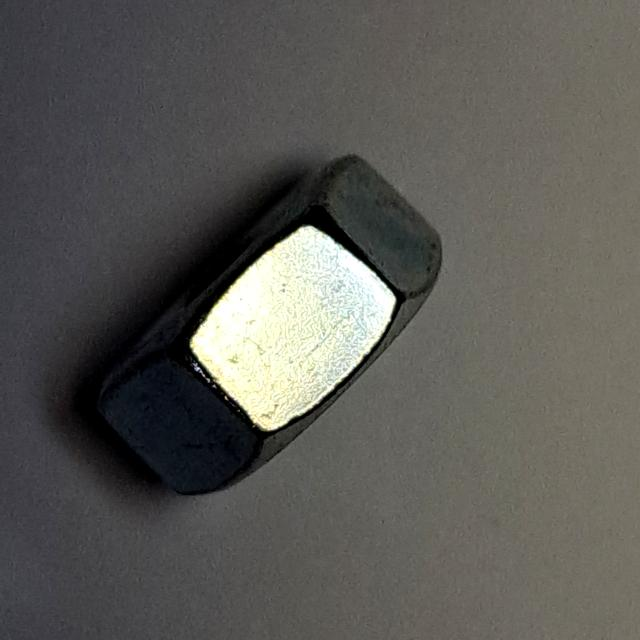Side_Excellent: (74, 132, 463, 511)
